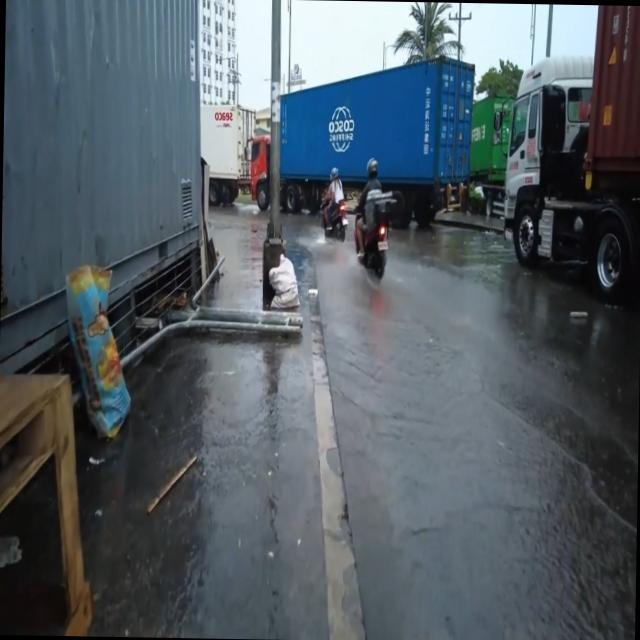half: (365, 158, 378, 178), (331, 165, 338, 179)
